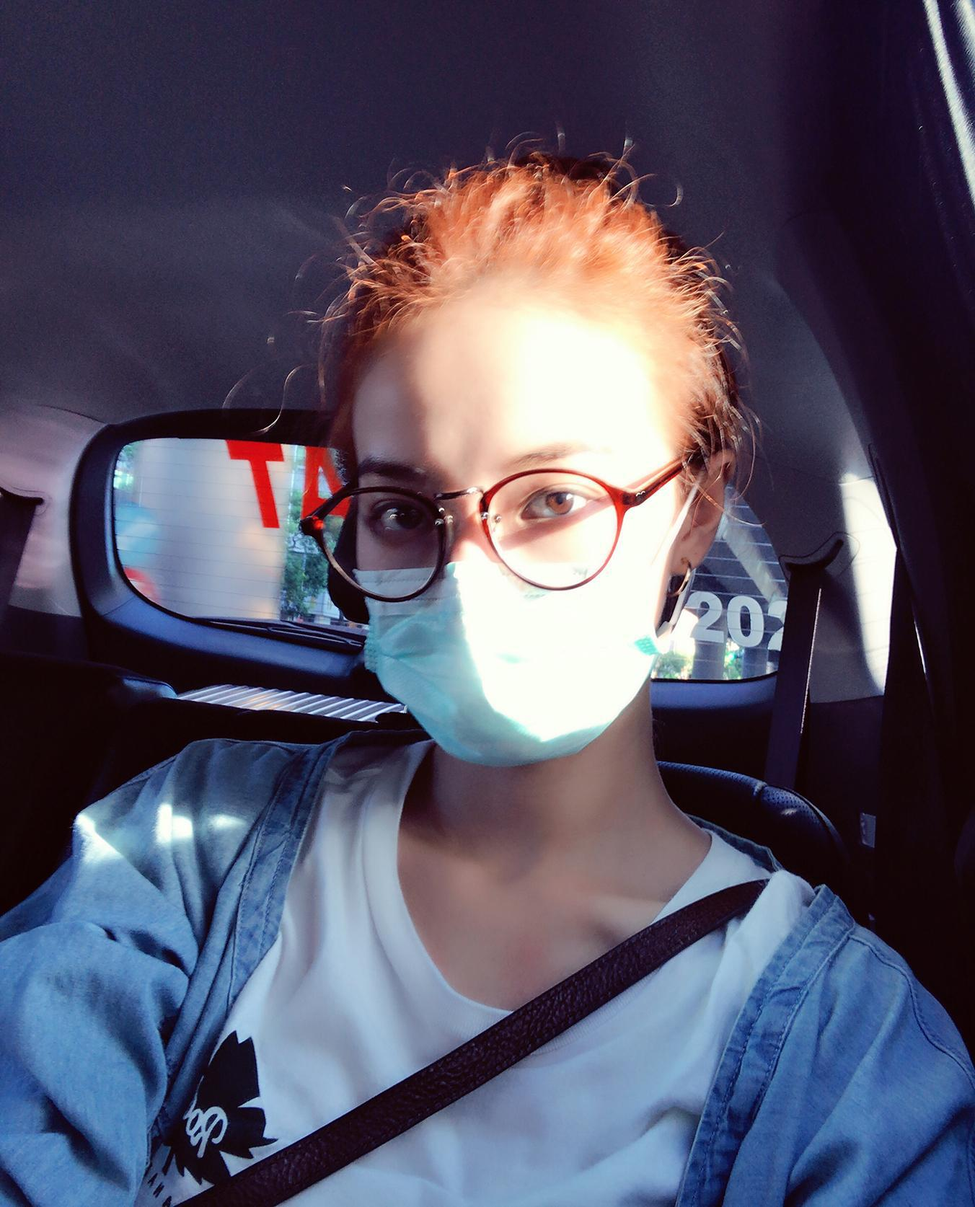OK: (324, 415, 687, 778)
